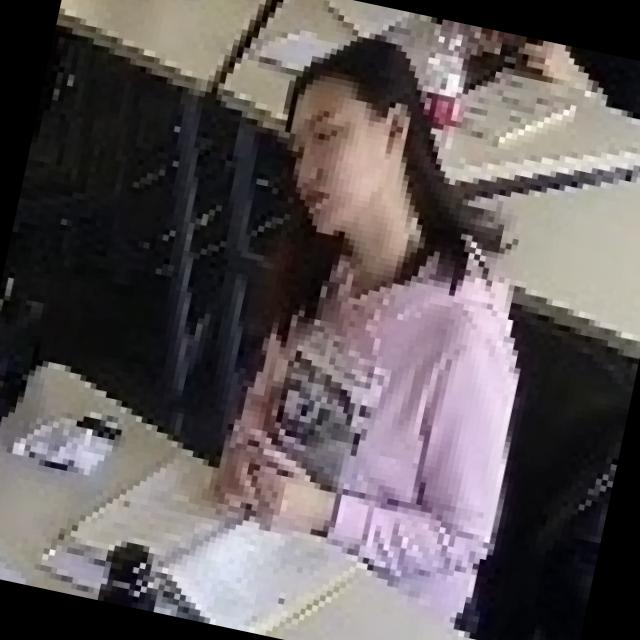listen: (139, 11, 582, 640)
